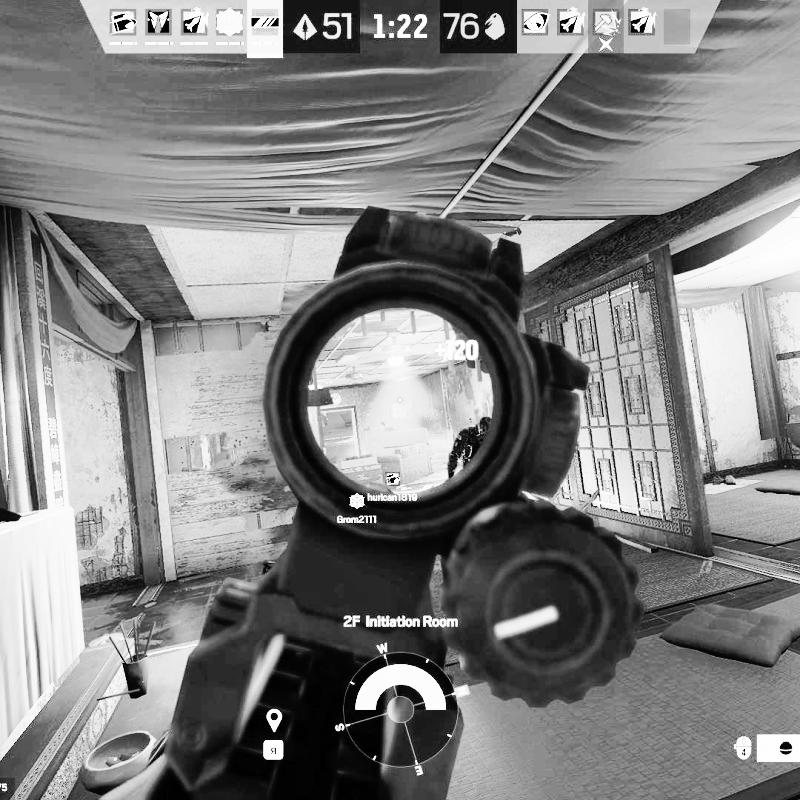Character: (446, 412, 491, 478)
Friend_label: (366, 470, 419, 504), (336, 494, 378, 526)
Head: (475, 414, 492, 435)
